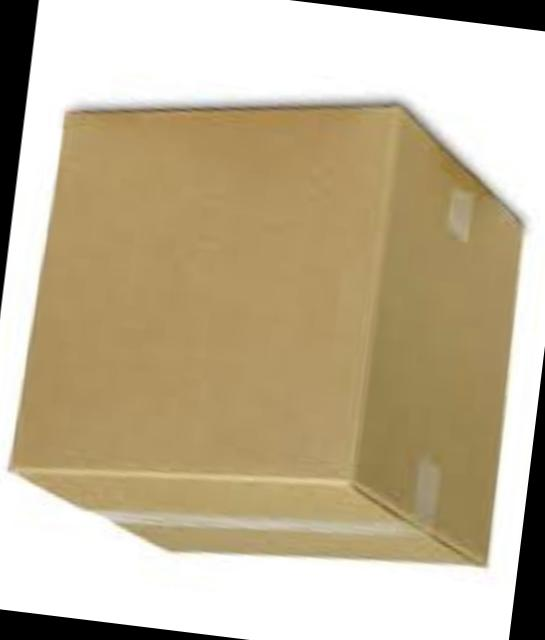cardboard paper: (14, 111, 523, 568)
